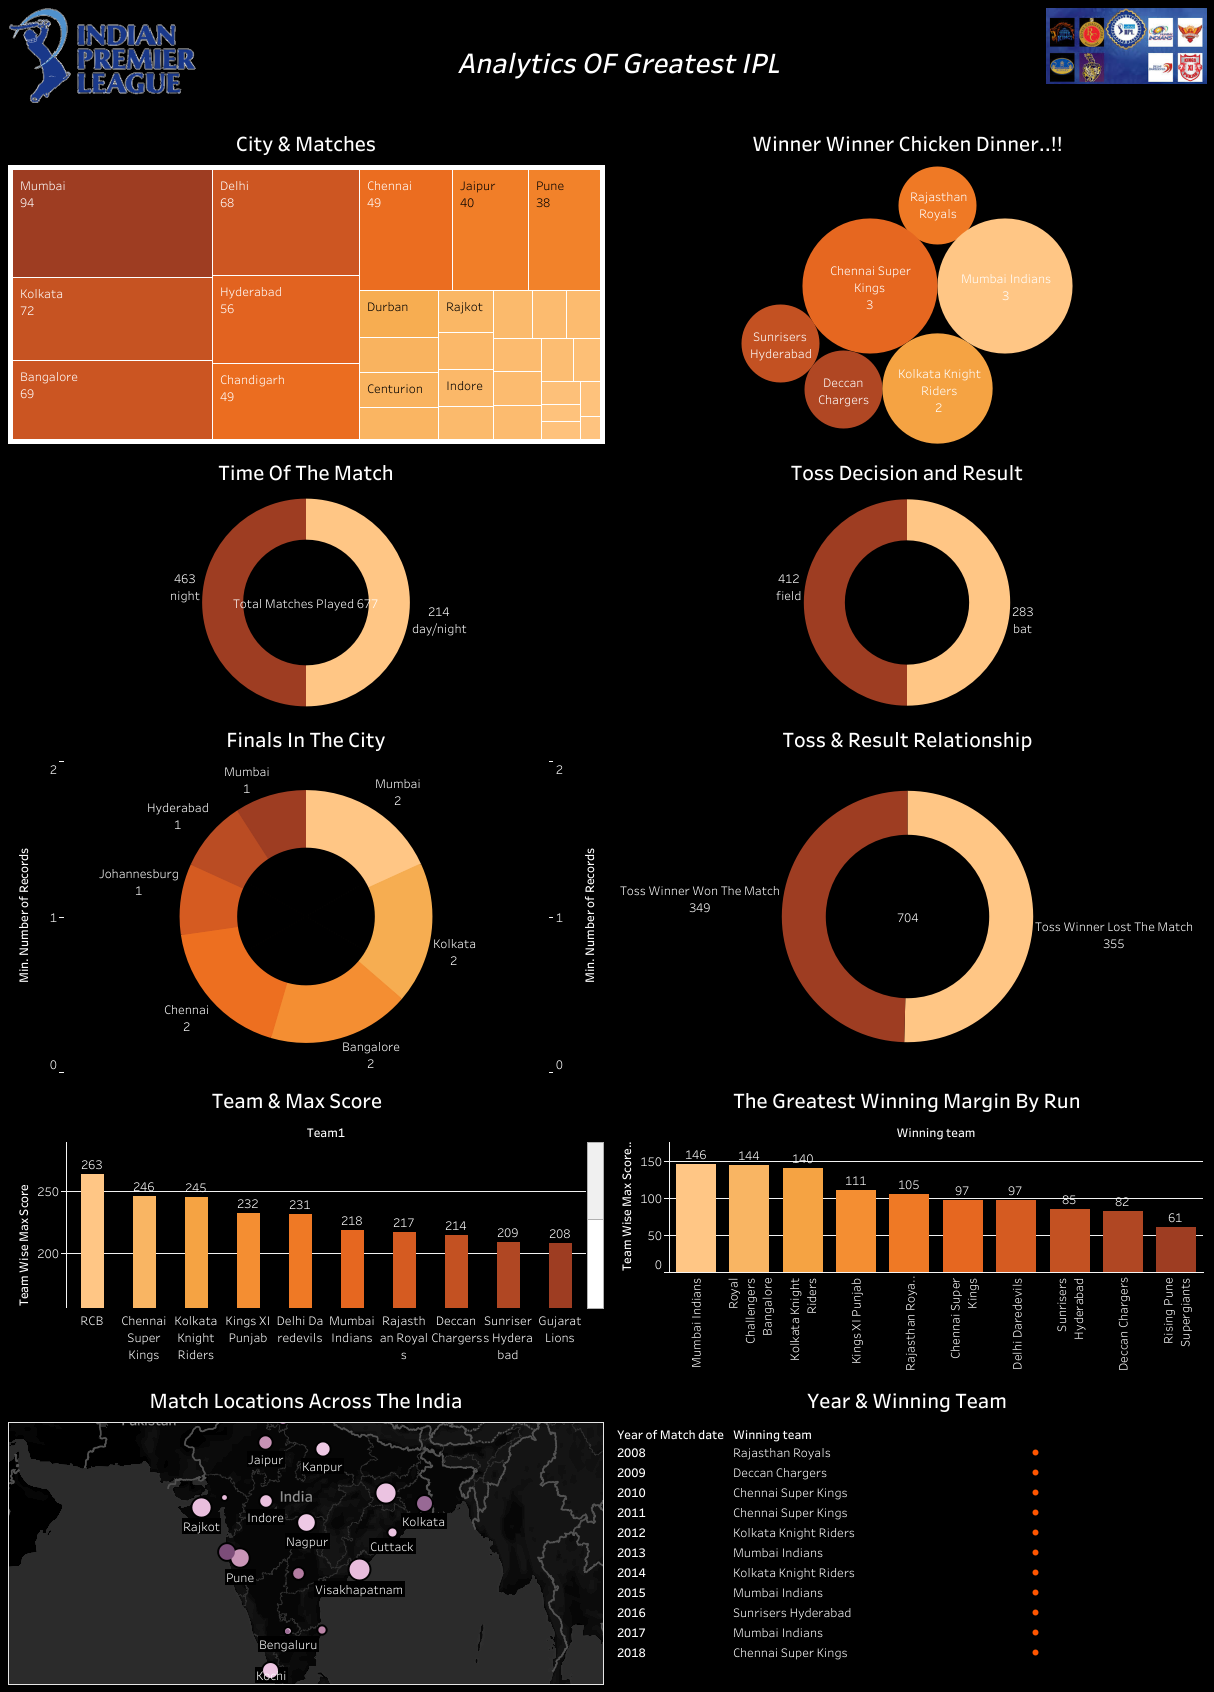

Layout of this report page (visuals, bound fields, positions):
{"tool":"tableau","page":{"name":"Dashboard 1","canvas":[1000,1000],"units":"permille","ordinal":0},"visuals":[{"type":"image","param":"Image/Indian_Premier_League_Logo.png","box":[0,0,161.1,66.2]},{"type":"text","box":[161.1,0,701.5,66.2]},{"type":"image","param":"Image/iplss.jpg","box":[862.6,0,137.4,66.2]},{"type":"worksheet","title":"City & Matches","mark":"Automatic","box":[0,66.2,498.2,196.4]},{"type":"worksheet","title":"Winners","mark":"Circle","box":[498.2,66.2,498.2,196.4]},{"type":"worksheet","title":"Day night matches","mark":"Pie","rows":["Number of Records","Number of Records"],"box":[0,262.6,498.2,158.9]},{"type":"worksheet","title":"Toss Decision and Result","mark":"Pie","rows":["Number of Records","Number of Records"],"box":[498.2,262.6,498.2,158.9]},{"type":"worksheet","title":"Location Wise Finals","mark":"Pie","rows":["Number of Records","Number of Records"],"box":[0,421.4,498.2,215.1]},{"type":"worksheet","title":"Toss & Result Relationship","mark":"Pie","rows":["Number of Records","Number of Records"],"box":[498.2,421.4,498.2,215.1]},{"type":"worksheet","title":"Teams and Score","mark":"Automatic","rows":["Calculation_483011101914492931"],"cols":["Team1"],"box":[0,636.6,498.2,179.1]},{"type":"worksheet","title":"The Greatest Winning Margin By Run","mark":"Automatic","rows":["Team Wise Max Score (copy)"],"cols":["Winning_team"],"box":[498.2,636.6,498.2,179.1]},{"type":"worksheet","title":"Match Locations","mark":"Automatic","box":[0,815.7,498.2,184.3]},{"type":"worksheet","title":"Year & Winning Team","mark":"Line","rows":["Match_date","Winning_team"],"box":[498.2,815.7,498.2,184.3]}]}

Visuals, with their boxes on the dashboard's canvas, which has no fixed pixel size, in thousandths of its width and height (x1, y1, x2, y2). These are canvas units, not pixel positions in the 1214x1692 screenshot, which may show the page scaled, cropped or inside an application window:
image: 0/0/161/66
text: 161/0/863/66
image: 863/0/1000/66
"City & Matches" worksheet: 0/66/498/263
"Winners" worksheet (Circle marks): 498/66/996/263
"Day night matches" worksheet (Pie marks): 0/263/498/422
"Toss Decision and Result" worksheet (Pie marks): 498/263/996/422
"Location Wise Finals" worksheet (Pie marks): 0/421/498/636
"Toss & Result Relationship" worksheet (Pie marks): 498/421/996/636
"Teams and Score" worksheet: 0/637/498/816
"The Greatest Winning Margin By Run" worksheet: 498/637/996/816
"Match Locations" worksheet: 0/816/498/1000
"Year & Winning Team" worksheet (Line marks): 498/816/996/1000
